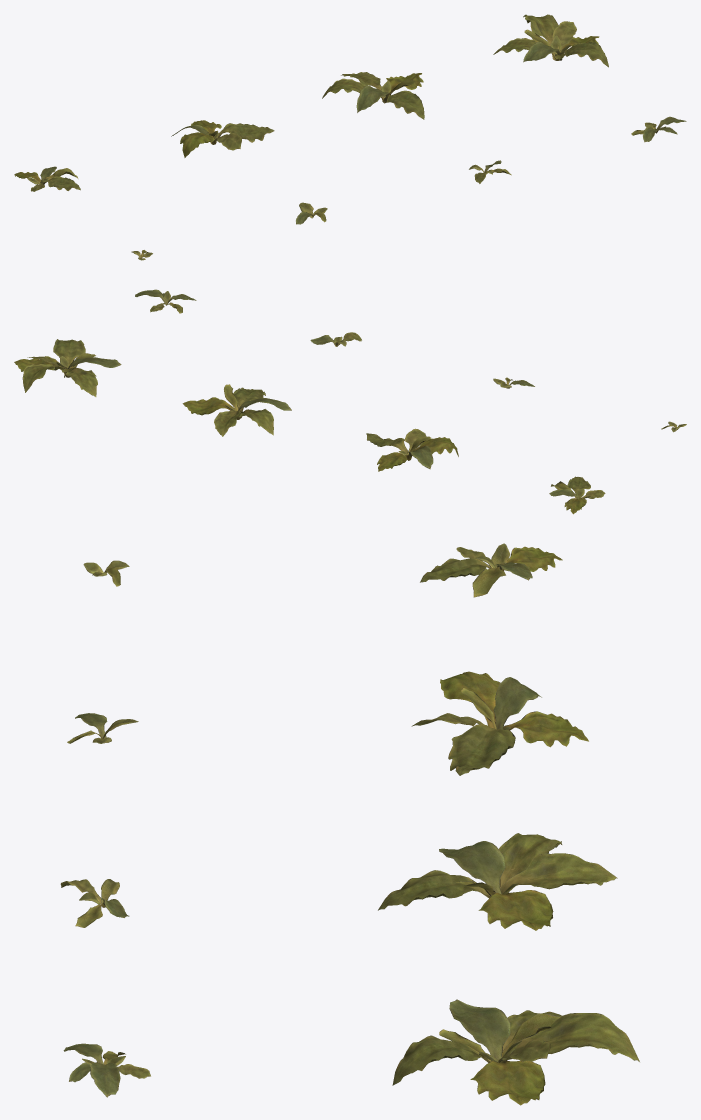
Rendered from crystalline_iceplant.glb.
3 renders of one model, top to bottom at view 1: azimuth 30°, elevation 25°; view 2: azimuth 150°, elevation 25°; view 3: azimuth 270°, elevation 25°, orthographic. The views are drawn at different scales.
Parts seen in each view (by area): view 1: crystalline_iceplant_a_LOD0, crystalline_iceplant_b_LOD0, crystalline_iceplant_c_LOD0, crystalline_iceplant_d_LOD0, crystalline_iceplant_e_LOD0, crystalline_iceplant_g_LOD0; view 2: crystalline_iceplant_a_LOD0, crystalline_iceplant_b_LOD0, crystalline_iceplant_c_LOD0, crystalline_iceplant_d_LOD0, crystalline_iceplant_e_LOD0, crystalline_iceplant_f_LOD0; view 3: crystalline_iceplant_a_LOD0, crystalline_iceplant_b_LOD0, crystalline_iceplant_c_LOD0, crystalline_iceplant_d_LOD0, crystalline_iceplant_e_LOD0, crystalline_iceplant_f_LOD0.
Part boxes in pixels (x1,y1,x2,y2): crystalline_iceplant_a_LOD0: (493, 14, 608, 67); crystalline_iceplant_b_LOD0: (322, 72, 424, 119); crystalline_iceplant_c_LOD0: (171, 120, 274, 157); crystalline_iceplant_d_LOD0: (14, 166, 80, 191); crystalline_iceplant_e_LOD0: (631, 116, 686, 142); crystalline_iceplant_g_LOD0: (296, 202, 327, 224); crystalline_iceplant_a_LOD0: (14, 339, 121, 396); crystalline_iceplant_b_LOD0: (182, 384, 291, 436); crystalline_iceplant_c_LOD0: (366, 428, 458, 471); crystalline_iceplant_d_LOD0: (549, 476, 605, 514); crystalline_iceplant_e_LOD0: (135, 289, 196, 313); crystalline_iceplant_f_LOD0: (310, 332, 361, 346); crystalline_iceplant_a_LOD0: (392, 999, 639, 1105); crystalline_iceplant_b_LOD0: (378, 833, 617, 930); crystalline_iceplant_c_LOD0: (411, 671, 588, 775); crystalline_iceplant_d_LOD0: (420, 543, 562, 597); crystalline_iceplant_e_LOD0: (63, 1043, 150, 1097); crystalline_iceplant_f_LOD0: (60, 879, 129, 927).
Bounding box in the file's own units: 1.69 × 0.0822 × 0.7379.
1 material, 1 textured.
